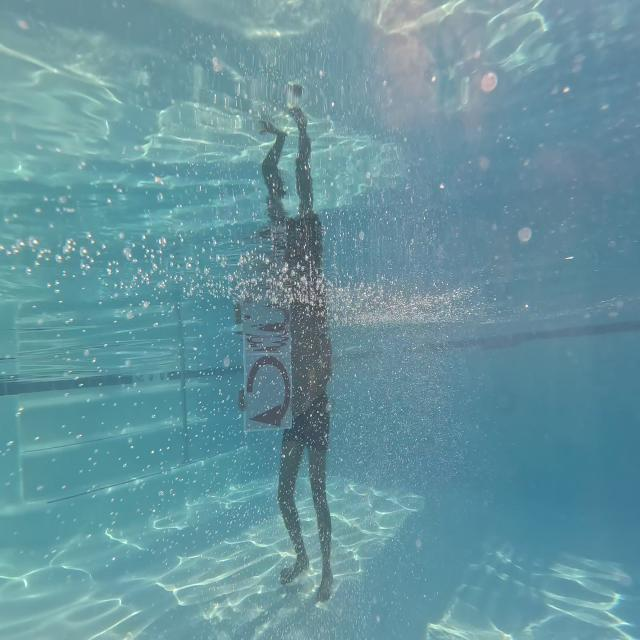red_side: (243, 347, 293, 433)
